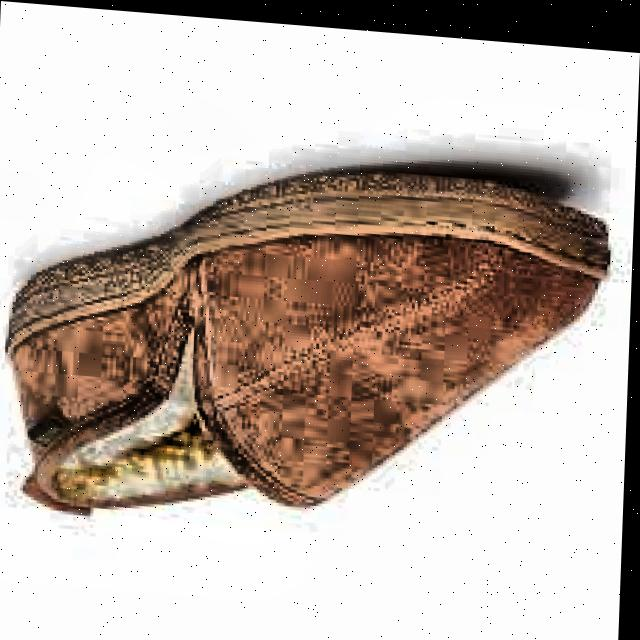shoes: (0, 98, 625, 623)
